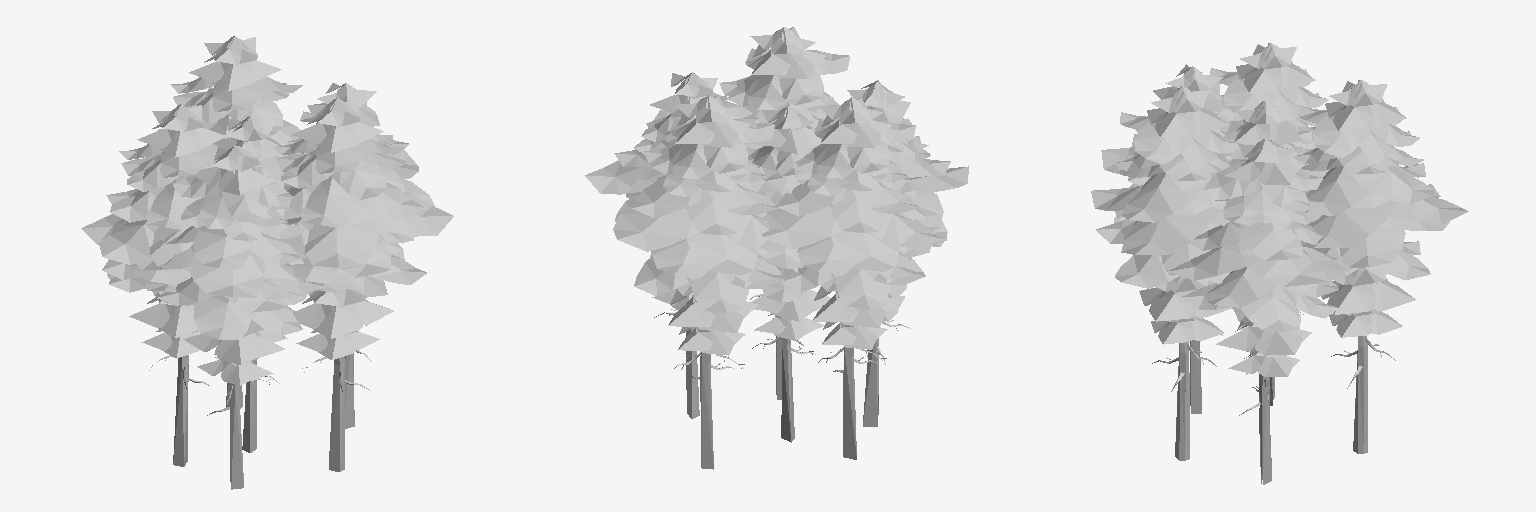
Rendered from tree.obj.
The picture shows the model from 3 angles: view 1: azimuth 30°, elevation 25°; view 2: azimuth 150°, elevation 25°; view 3: azimuth 270°, elevation 25°; orthographic projection.
Bounding box in the file's own units: 22.56 × 24.17 × 22.31.